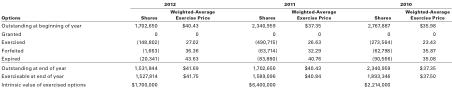table: (0, 0, 448, 86)
table column: (0, 0, 107, 86), (163, 0, 230, 86), (283, 0, 349, 86), (107, 0, 163, 86), (230, 0, 283, 86), (397, 0, 448, 86), (349, 0, 397, 86)
table column header: (0, 0, 448, 20)
table row: (0, 7, 448, 20), (0, 28, 448, 37), (0, 53, 448, 62), (0, 62, 448, 71), (0, 20, 448, 28), (0, 37, 448, 45), (0, 45, 448, 53), (0, 71, 448, 79), (0, 0, 448, 7), (0, 79, 448, 86)
table spanning cell: (0, 0, 107, 20), (107, 0, 230, 7), (230, 0, 349, 7), (349, 0, 448, 7)
